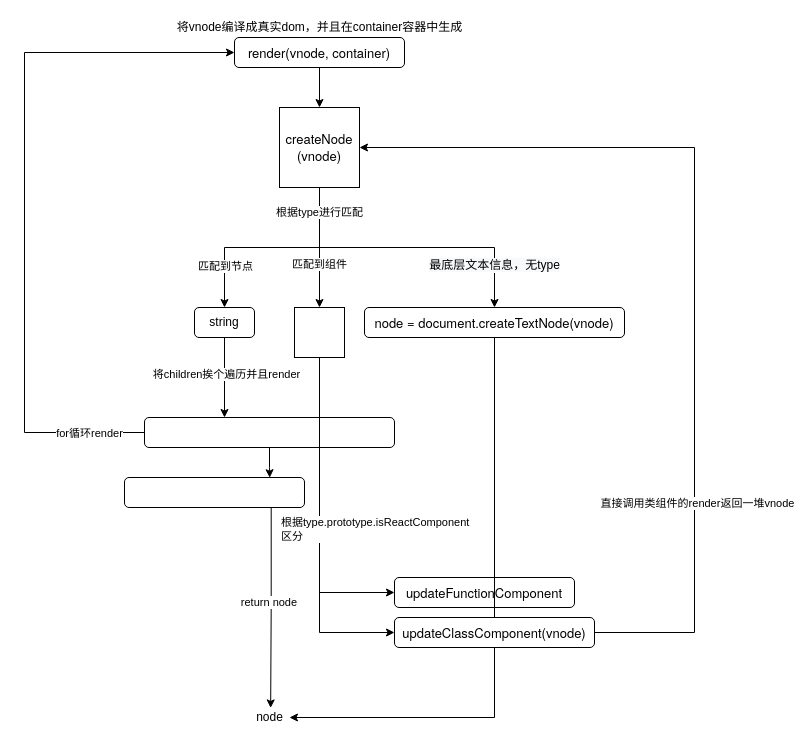
Image size: 811x744. Some labels were removed from this diagram. Here are the shapes that lost their labels. From the top down, the box of each, then its label:
(294, 306, 344, 358): function
(144, 416, 394, 448): reconcileChildren(parentNode, children)
(124, 476, 304, 508): updateNode(node, nextVal)
